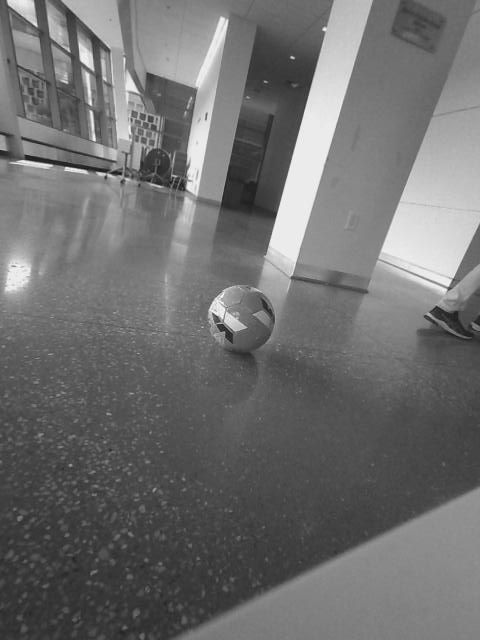ball: (205, 281, 277, 353)
